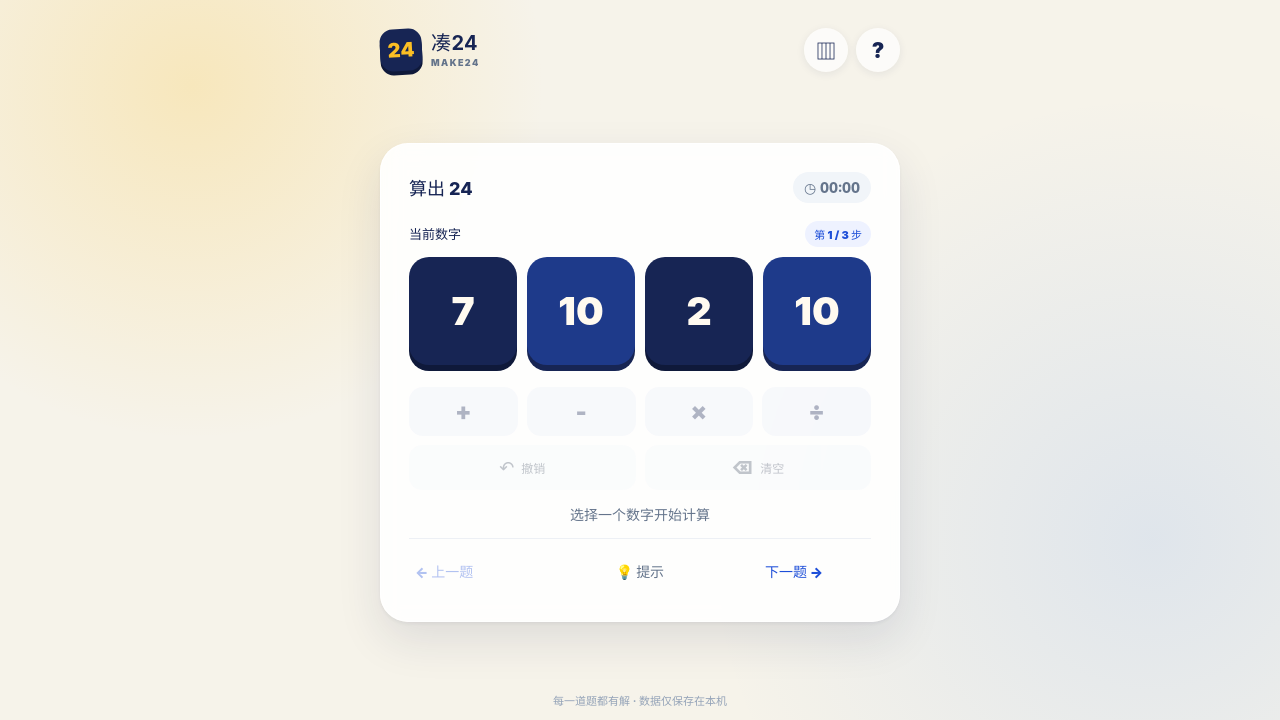
Test: Make24 app › calculates after number, operator, number and keeps the result selected
The width and height of the screenshot is (1280, 720).
Click the button named "数字": (463, 310) [409,256,517,364]
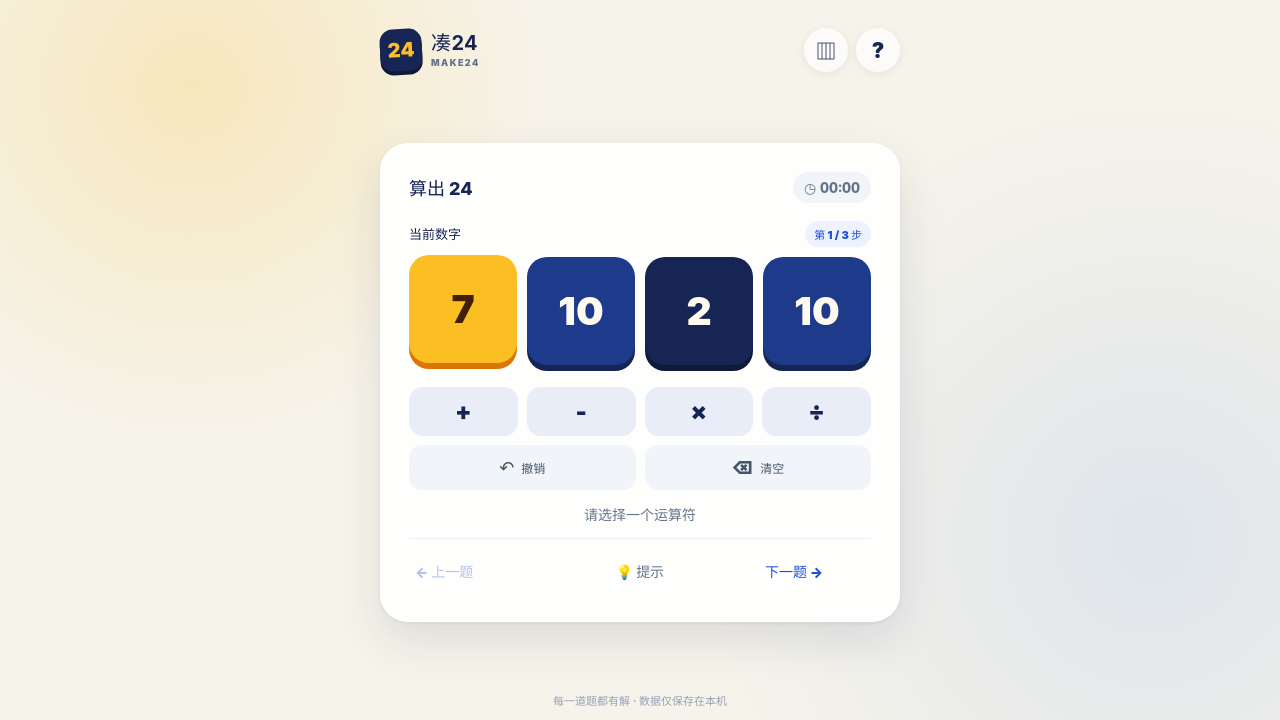
Click the button named "运算符 +": (463, 411) [409,386,518,436]
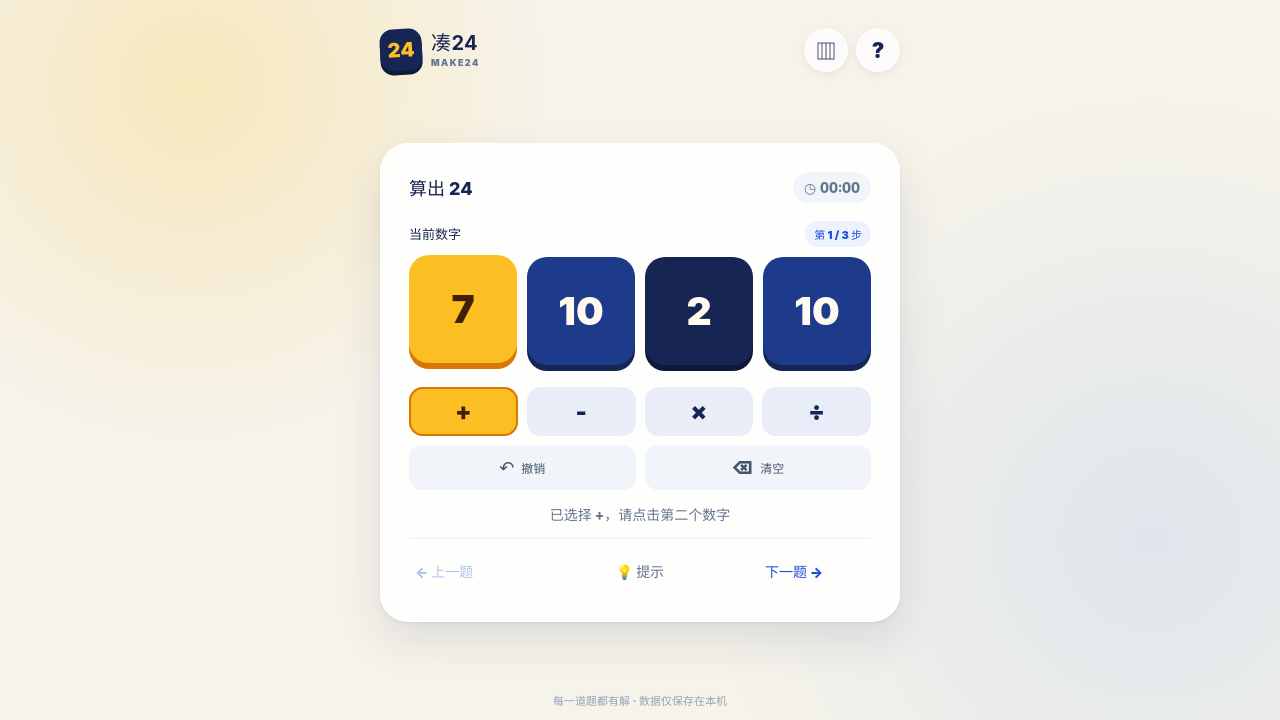
Click the button named "数字": (581, 310) [527,256,635,364]
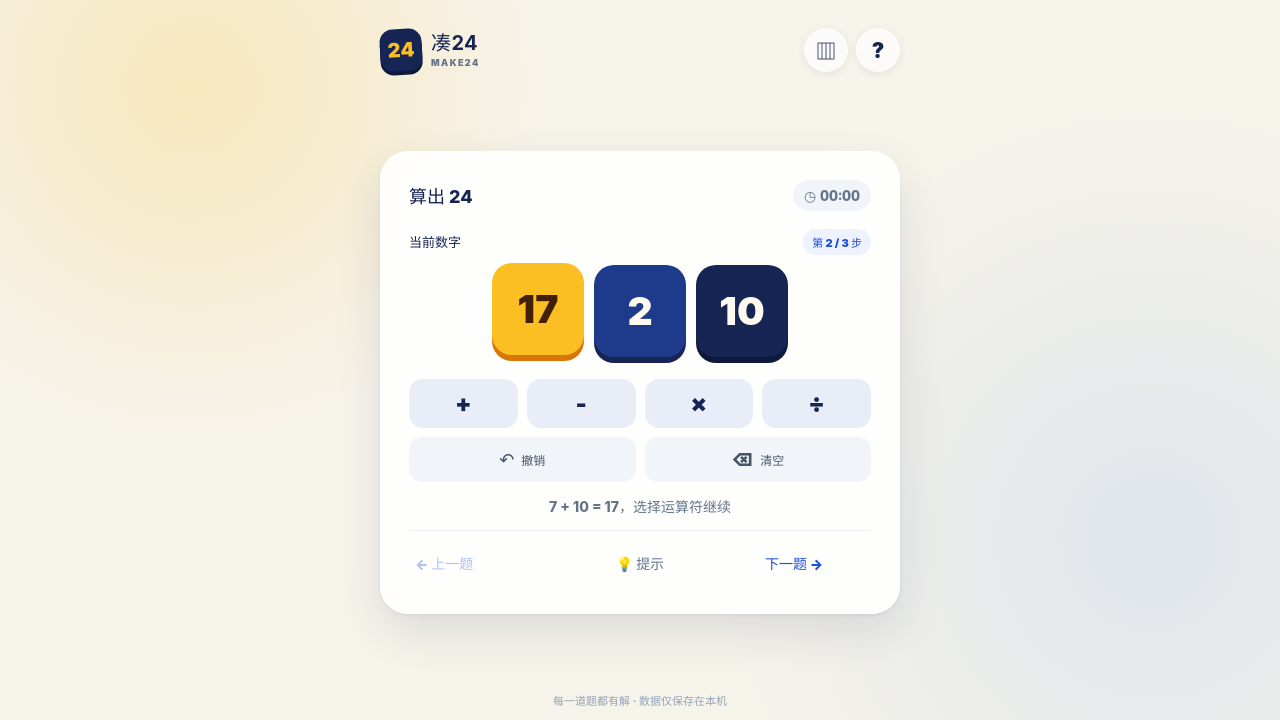
Now the button named "运算符 ×" is enabled, box [644,378,753,428]
Now the number of buttons named "数字" is 3, box [492,262,584,354]; [594,264,686,356]; [696,264,788,356]
Click the button "↶ 撤销": (522, 459) [409,436,636,482]
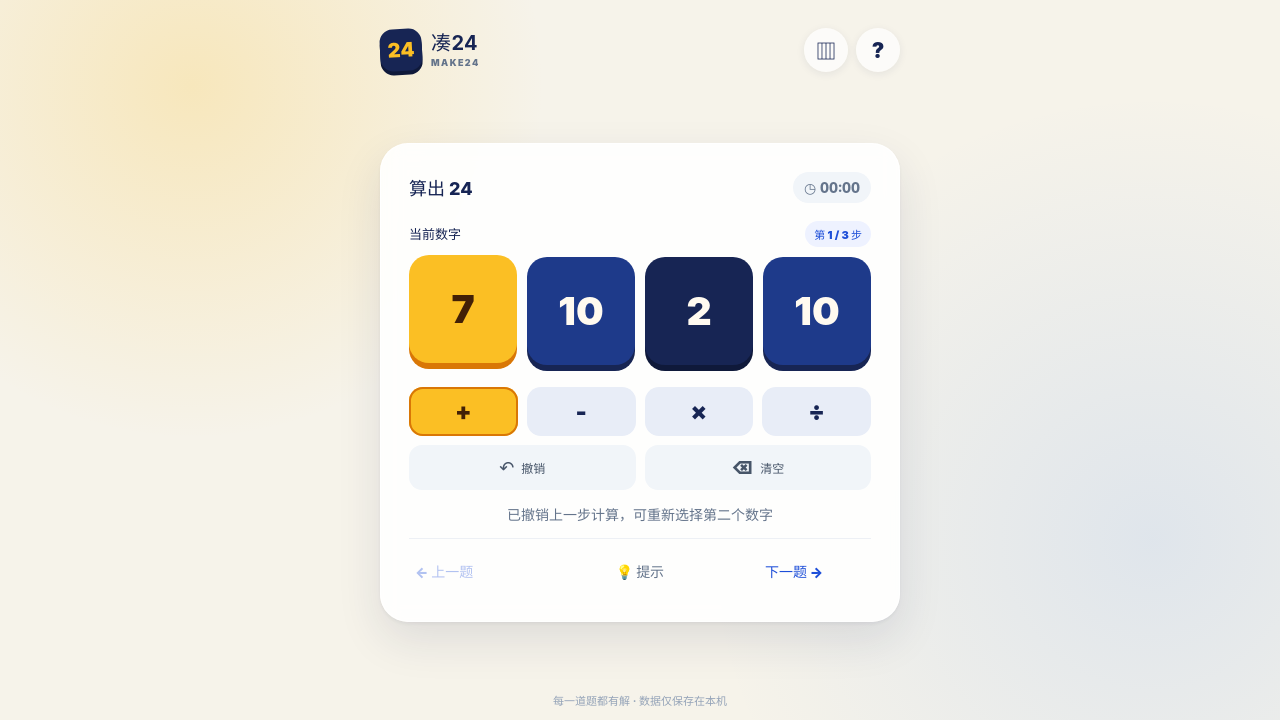
Now the number of buttons named "数字" is 4, box [409,254,517,362]; [527,256,635,364]; [645,256,753,364]; [763,256,871,364]
